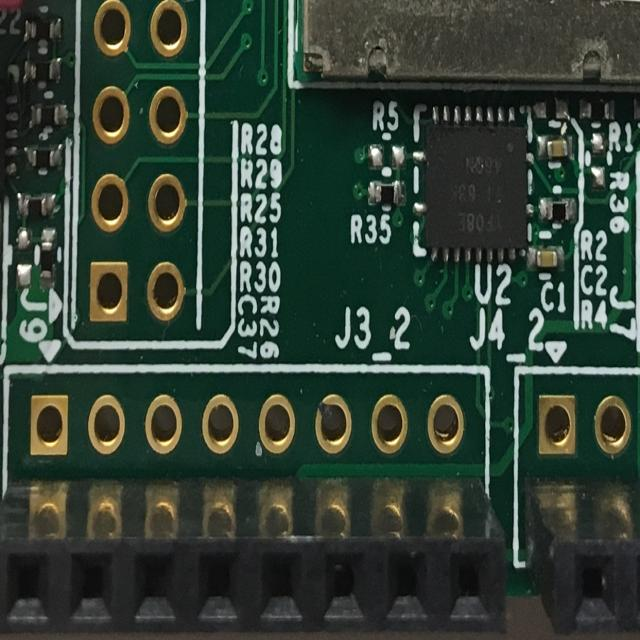IC: (294, 0, 640, 88), (415, 111, 532, 258), (0, 71, 14, 186)
capacitor: (535, 130, 577, 161), (530, 244, 564, 274), (0, 200, 4, 258)
component text: (443, 149, 509, 239)
connector: (2, 365, 504, 632), (77, 0, 205, 348), (512, 370, 640, 627), (636, 152, 640, 354)
jumper: (0, 0, 46, 3)
pads: (586, 130, 610, 188), (368, 143, 408, 170), (17, 227, 33, 288), (0, 264, 3, 324)
resistor: (22, 52, 61, 93), (530, 94, 572, 127), (23, 143, 65, 173), (29, 102, 68, 134), (37, 227, 56, 291), (540, 195, 578, 227), (578, 94, 614, 125), (24, 15, 63, 42), (18, 194, 55, 221), (370, 182, 404, 209), (633, 96, 640, 121)
